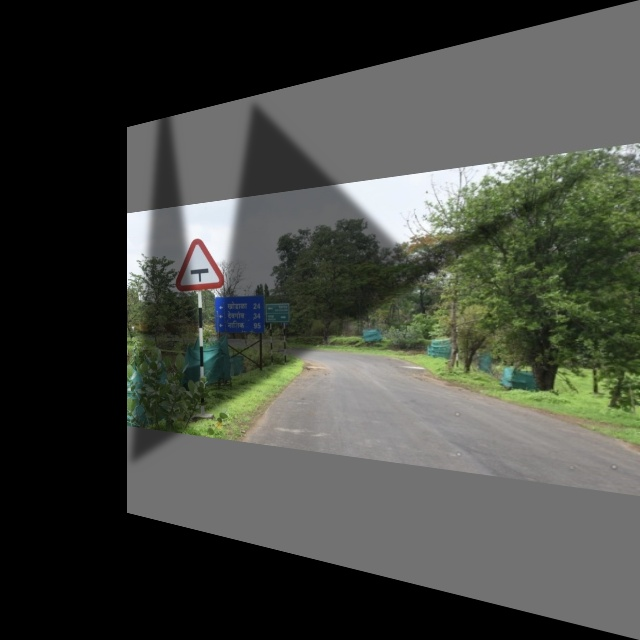T_Intersection: (171, 229, 229, 294)
